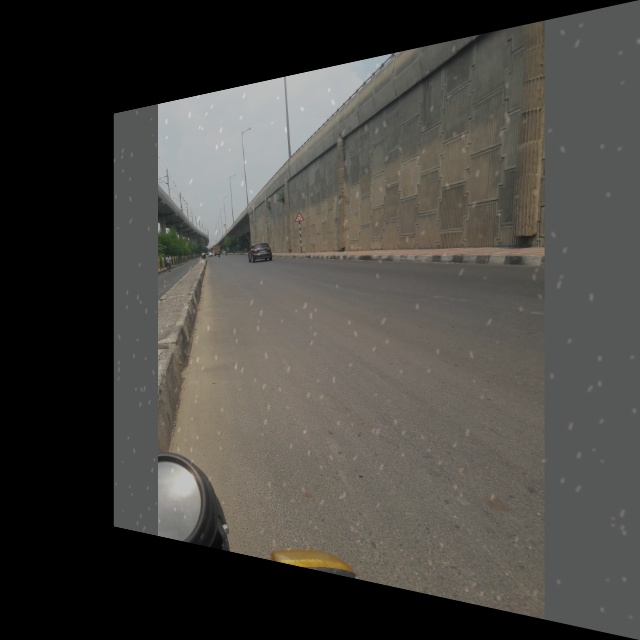Round_About: (288, 205, 309, 228)
